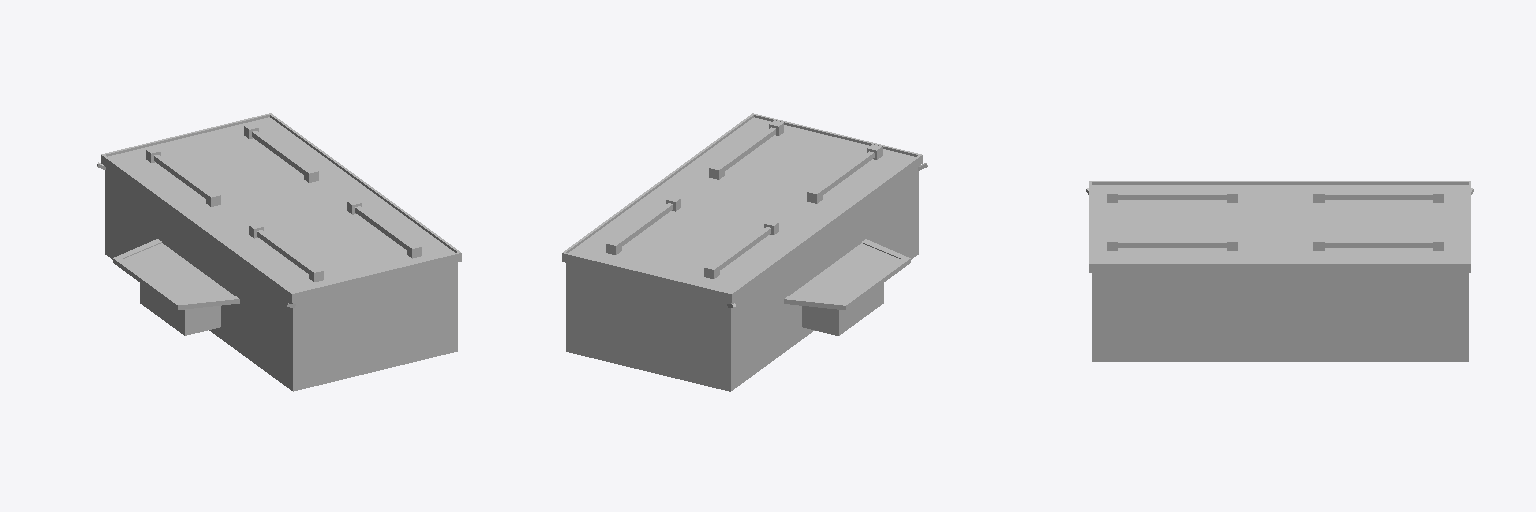
The model's file is PoiShipping.obj.
3 renders of one model, left to right at view 1: azimuth 30°, elevation 25°; view 2: azimuth 150°, elevation 25°; view 3: azimuth 270°, elevation 25°, orthographic.
Parts seen in each view (by area): view 1: PostOffice PROPS; view 2: PostOffice PROPS; view 3: PostOffice PROPS.
Boxes of the visible parts, x1,y1,x2,y2 form: PostOffice PROPS: [97, 113, 461, 391]; PostOffice PROPS: [562, 113, 927, 391]; PostOffice PROPS: [1086, 181, 1473, 361].
Bounding box in the file's own units: 10.17 × 4.67 × 15.46.